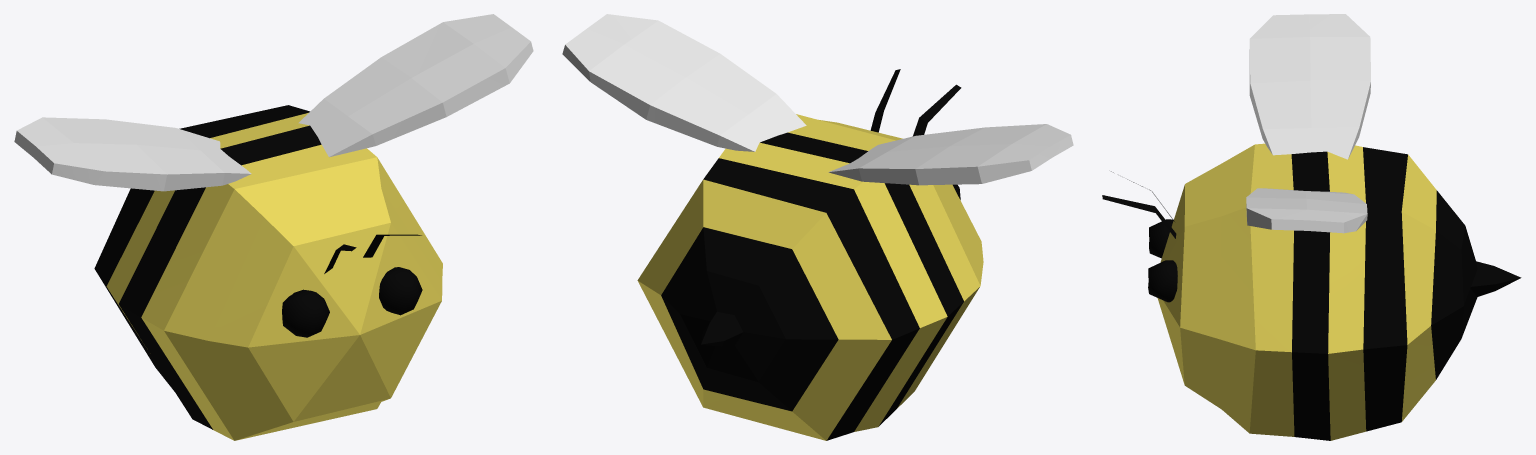
Rendered from beemodle.glb.
3 views of the same model, side by side, from view 1: azimuth 30°, elevation 25°; view 2: azimuth 150°, elevation 25°; view 3: azimuth 270°, elevation 25° (orthographic). The views are drawn at different scales.
Visible parts, largest first — view 1: beebody, wing2, wing2.001; view 2: beebody, wing2, wing2.001; view 3: beebody, wing2.001, wing2.
Boxes of the visible parts, x1=… form: beebody: x1=94, y1=105, x2=442, y2=440; wing2: x1=298, y1=14, x2=533, y2=157; wing2.001: x1=14, y1=117, x2=251, y2=191; beebody: x1=637, y1=69, x2=983, y2=440; wing2: x1=562, y1=14, x2=806, y2=151; wing2.001: x1=828, y1=124, x2=1073, y2=185; beebody: x1=1102, y1=143, x2=1521, y2=440; wing2.001: x1=1249, y1=14, x2=1370, y2=159; wing2: x1=1246, y1=188, x2=1367, y2=233.
Size of the model in its own units: 0.5643 by 0.3624 by 0.4689.
